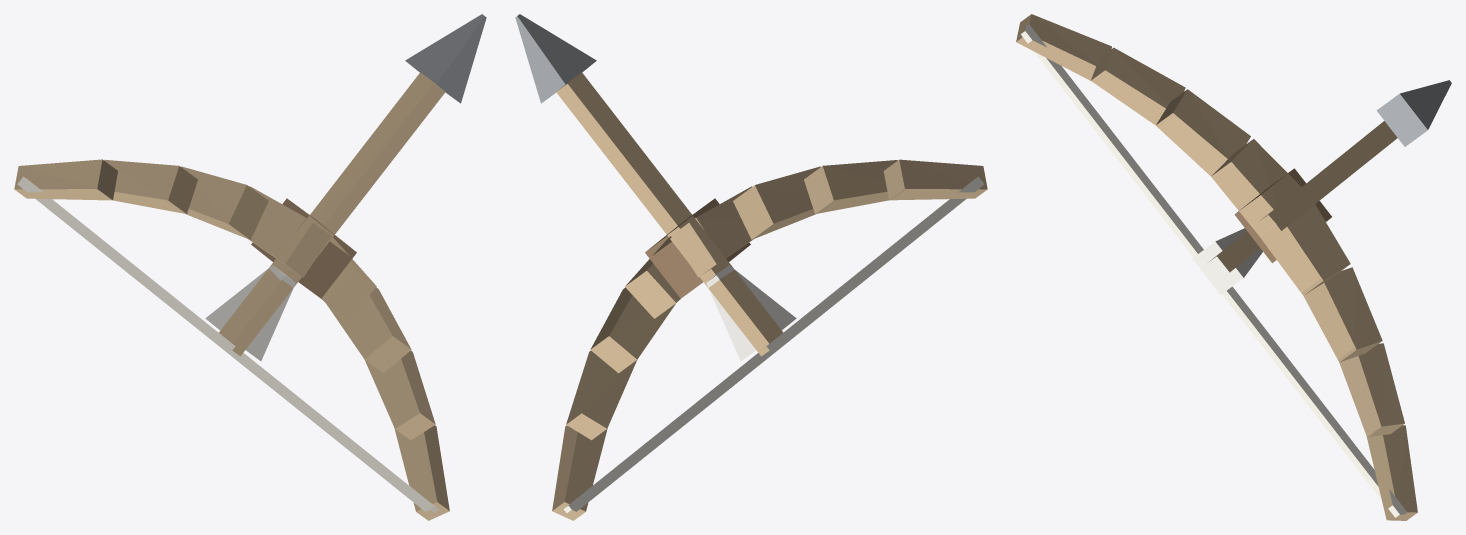
File: bow.glb
3 views of the same model, side by side, from view 1: azimuth 30°, elevation 25°; view 2: azimuth 150°, elevation 25°; view 3: azimuth 330°, elevation 25° (orthographic). The views are drawn at different scales.
Visible parts, largest first — view 1: Arrow, Bow.String, Bow#6, Bow#7, Bow#8, Bow#3, Bow#2, Arrow.Head, Bow#5, Bow, Bow.Grip, Arrow.Fletch (+1 smaller); view 2: Arrow, Bow.String, Bow#6, Bow#7, Bow#8, Bow#3, Bow#2, Arrow.Head, Bow#5, Bow, Bow.Grip, Arrow.Fletch (+1 smaller); view 3: Bow.String, Bow#3, Bow#6, Bow#5, Bow#4, Arrow, Bow#2, Bow#7, Bow, Bow#8, Arrow.Head, Arrow.Fletch (+1 smaller).
Boxes of the visible parts, x1,y1,x2,y2 form: Arrow: [219, 72, 445, 356]; Bow.String: [17, 176, 438, 512]; Bow#6: [166, 166, 268, 239]; Bow#7: [96, 159, 197, 213]; Bow#8: [14, 159, 117, 200]; Bow#3: [324, 287, 411, 373]; Bow#2: [363, 348, 435, 440]; Arrow.Head: [405, 14, 486, 103]; Bow#5: [248, 186, 330, 277]; Bow: [394, 421, 449, 520]; Bow.Grip: [251, 198, 356, 298]; Arrow.Fletch: [205, 265, 295, 361]; Arrow: [556, 72, 783, 356]; Bow.String: [563, 176, 984, 512]; Bow#6: [733, 166, 835, 239]; Bow#7: [804, 160, 905, 213]; Bow#8: [883, 159, 987, 200]; Bow#3: [590, 287, 677, 373]; Bow#2: [566, 348, 638, 440]; Arrow.Head: [515, 14, 596, 103]; Bow#5: [671, 186, 753, 277]; Bow: [552, 421, 607, 520]; Bow.Grip: [645, 198, 750, 298]; Arrow.Fletch: [706, 265, 796, 361]; Bow.String: [1021, 24, 1407, 517]; Bow#3: [1301, 267, 1382, 362]; Bow#6: [1156, 89, 1250, 178]; Bow#5: [1211, 139, 1301, 236]; Bow#4: [1257, 204, 1350, 295]; Arrow: [1209, 121, 1397, 272]; Bow#2: [1338, 343, 1404, 437]; Bow#7: [1091, 47, 1185, 126]; Bow: [1367, 424, 1417, 520]; Bow#8: [1016, 14, 1111, 80]; Arrow.Head: [1376, 80, 1451, 146]; Arrow.Fletch: [1192, 228, 1262, 294].
Bounding box in the file's own units: 1.29 × 1.29 × 0.14.
